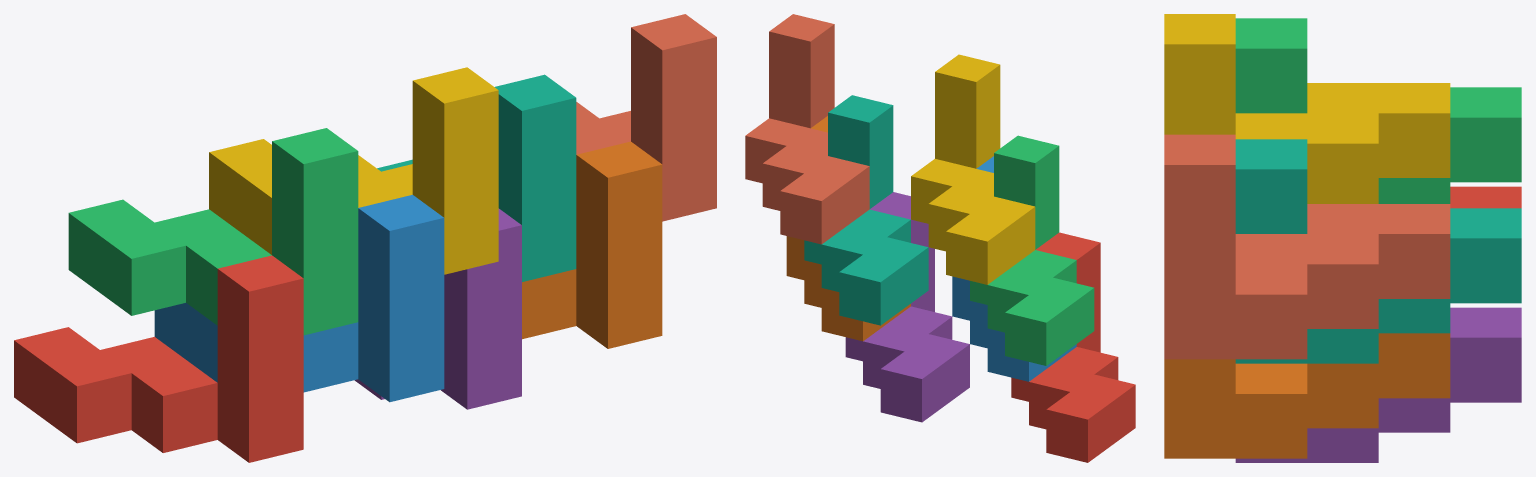
The model's file is tiling.obj.
The picture shows the model from 3 angles, left to right: view 1: azimuth 30°, elevation 25°; view 2: azimuth 150°, elevation 25°; view 3: azimuth 270°, elevation 25°; orthographic projection. The views are drawn at different scales.
Visible parts, largest first — view 1: copy_1_domain_1, copy_1_domain_3, copy_1_domain_2, copy_1_domain_4, copy_1_domain_6, copy_1_domain_8, copy_1_domain_7, copy_1_domain_5; view 2: copy_1_domain_8, copy_1_domain_4, copy_1_domain_3, copy_1_domain_7, copy_1_domain_1, copy_1_domain_5, copy_1_domain_6, copy_1_domain_2; view 3: copy_1_domain_8, copy_1_domain_4, copy_1_domain_6, copy_1_domain_7, copy_1_domain_3, copy_1_domain_5, copy_1_domain_1.
Boxes of the visible parts, <box> form: copy_1_domain_1: <box>14,255,303,462</box>; copy_1_domain_3: <box>68,128,358,335</box>; copy_1_domain_2: <box>154,194,444,402</box>; copy_1_domain_4: <box>209,67,498,274</box>; copy_1_domain_6: <box>522,141,662,348</box>; copy_1_domain_8: <box>576,14,716,221</box>; copy_1_domain_7: <box>377,74,576,281</box>; copy_1_domain_5: <box>354,208,521,409</box>; copy_1_domain_8: <box>745,14,869,244</box>; copy_1_domain_4: <box>911,54,1035,284</box>; copy_1_domain_3: <box>970,135,1094,365</box>; copy_1_domain_7: <box>804,95,928,325</box>; copy_1_domain_1: <box>1011,232,1135,462</box>; copy_1_domain_5: <box>845,192,969,422</box>; copy_1_domain_6: <box>786,116,910,341</box>; copy_1_domain_2: <box>952,156,1076,381</box>; copy_1_domain_8: <box>1164,134,1450,359</box>; copy_1_domain_4: <box>1164,14,1450,203</box>; copy_1_domain_6: <box>1164,333,1450,458</box>; copy_1_domain_7: <box>1235,139,1521,363</box>; copy_1_domain_3: <box>1235,18,1521,203</box>; copy_1_domain_5: <box>1235,307,1521,462</box>; copy_1_domain_1: <box>1450,186,1521,208</box>.
Size of the model in its own units: 10 by 6 by 5.
